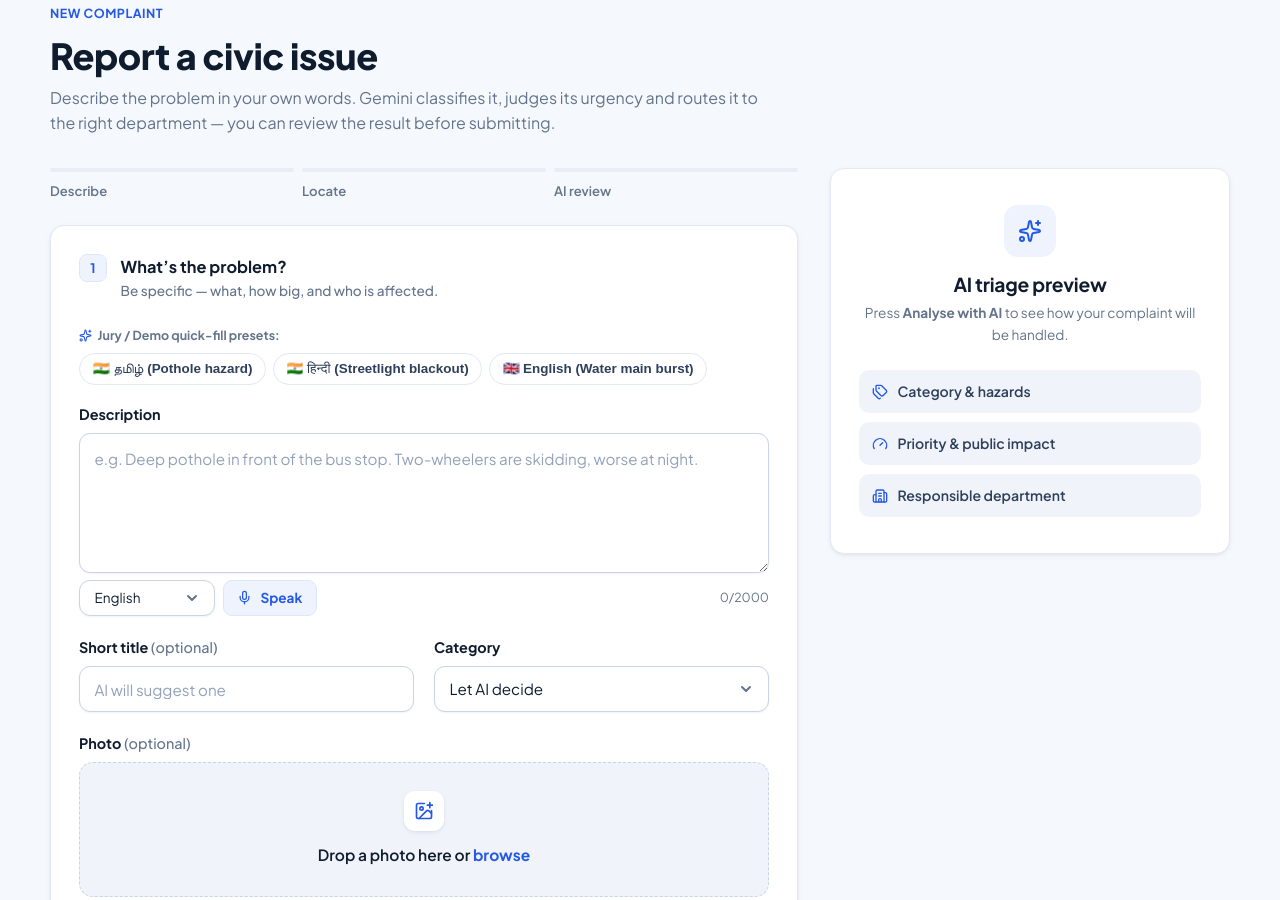
Test: ReportPage › runs AI triage, shows duplicates, then submits and shows the tracking code
The image size is (1280, 900).
Type "Deep pothole near the bus stop, bikes are skidding" into the text box labelled "Description".
click(424, 503); type("Deep pothole near the bus stop, bikes are skidding")  # box [79,433,769,573]
(page scrolled)
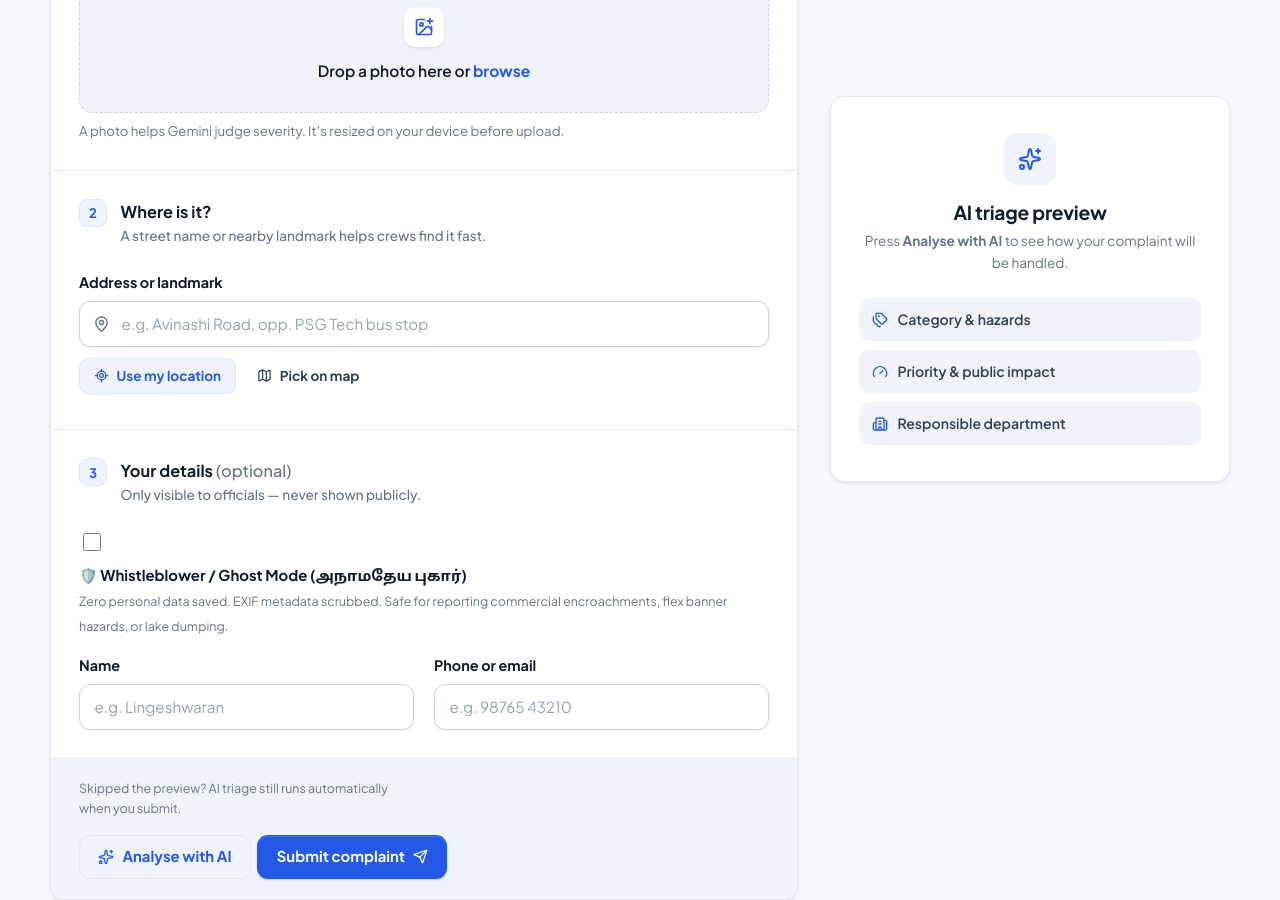
Click the button "Analyse with AI".
click(165, 857)  # box [79,835,251,879]
(page scrolled)
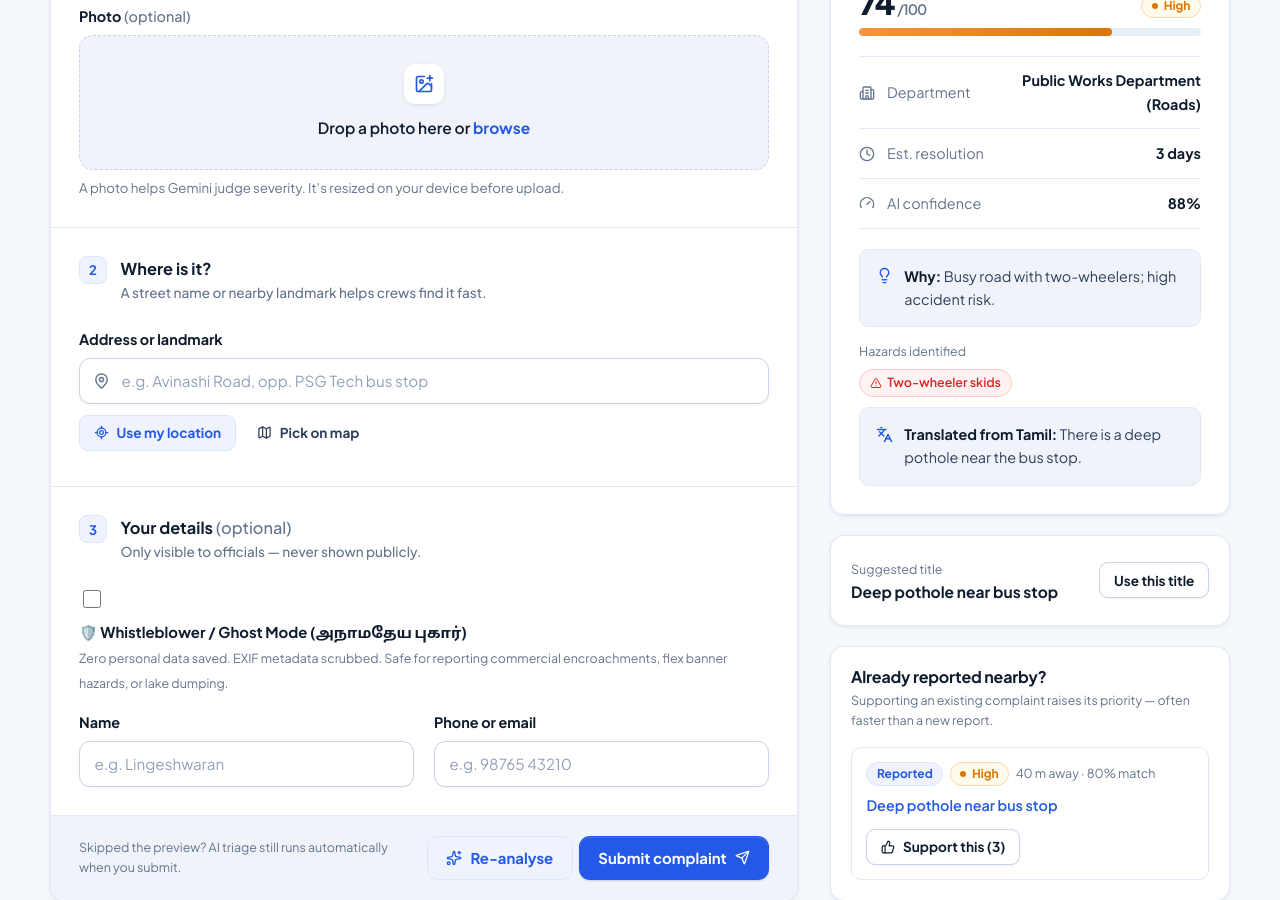
Result: the text "Why: Busy road with two-wheelers; high accident risk." is shown at [904,265,1184,311]
Result: the heading "Already reported nearby?" is shown at [851,666,1047,687]
Result: the text "40 m away · 80% match" is shown at [1016,764,1156,784]
Click the button "Use this title".
click(1154, 580)  # box [1099,562,1209,598]
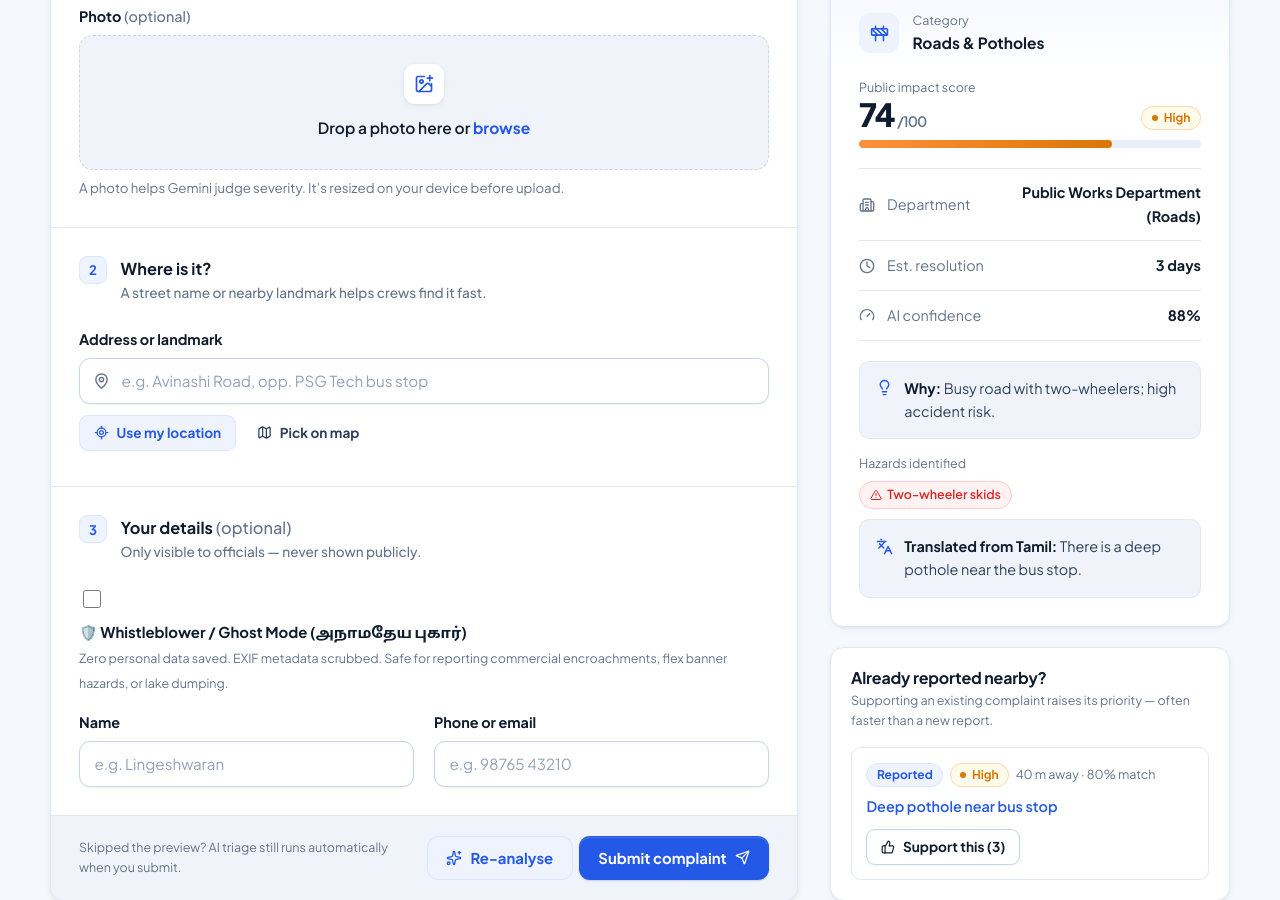
Type "Avinashi Road" into the field labelled "Address or landmark".
click(424, 381); type("Avinashi Road")  # box [79,358,769,404]
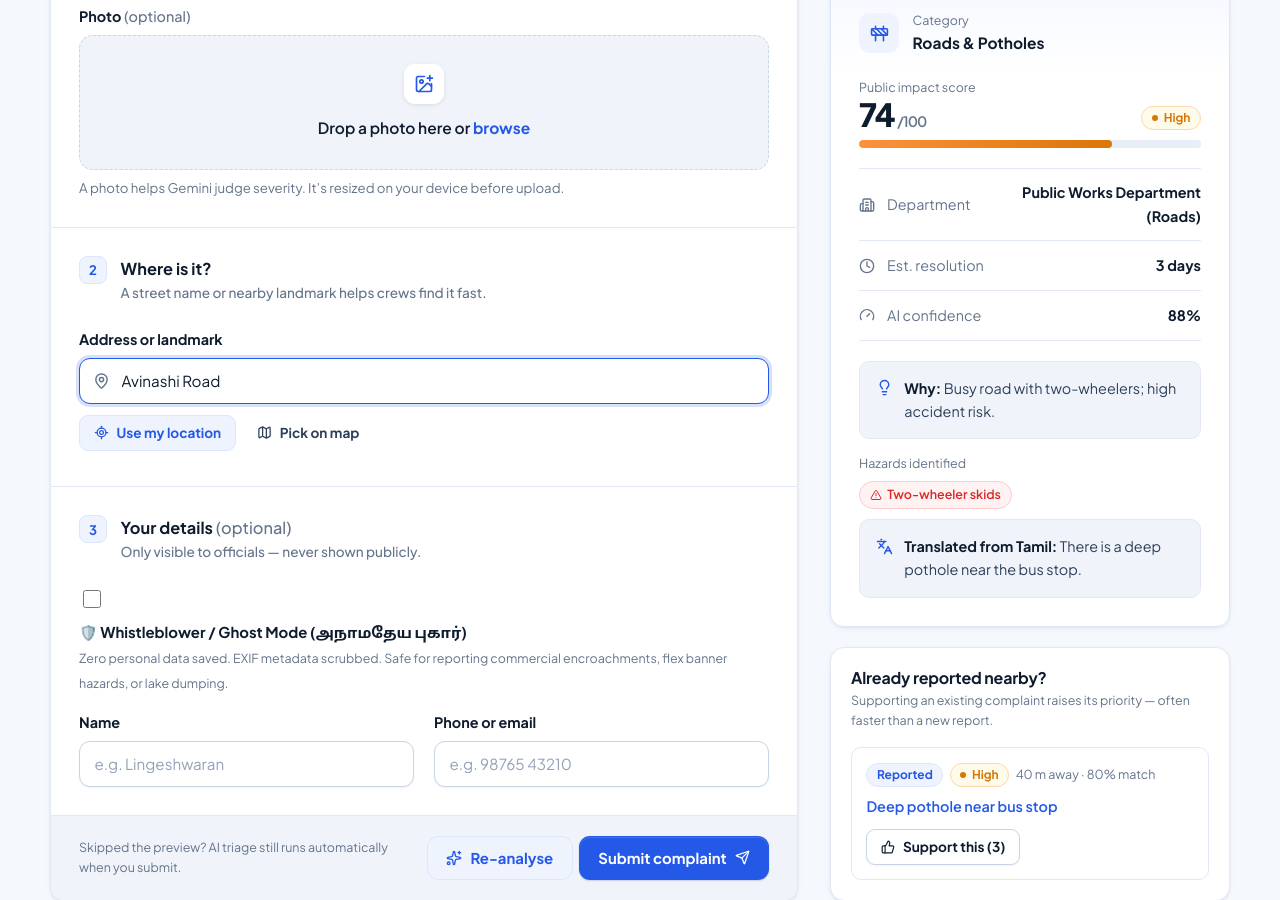
Click the button "Submit complaint".
click(674, 858)  # box [579,836,769,880]
(page scrolled)
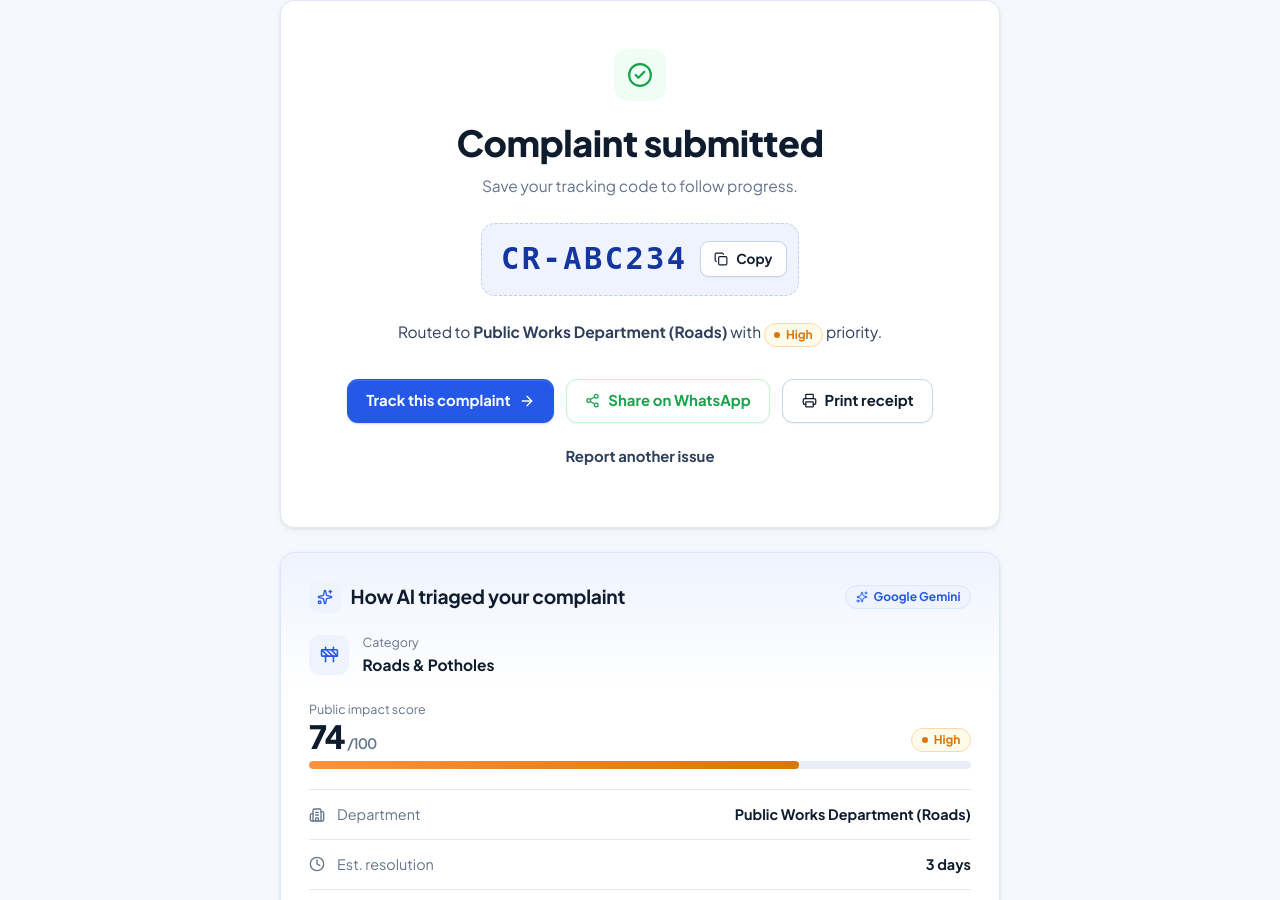
Result: the text "CR-ABC234" is shown at [501,235,688,283]
Result: the heading "Complaint submitted" is shown at [456,120,823,165]
